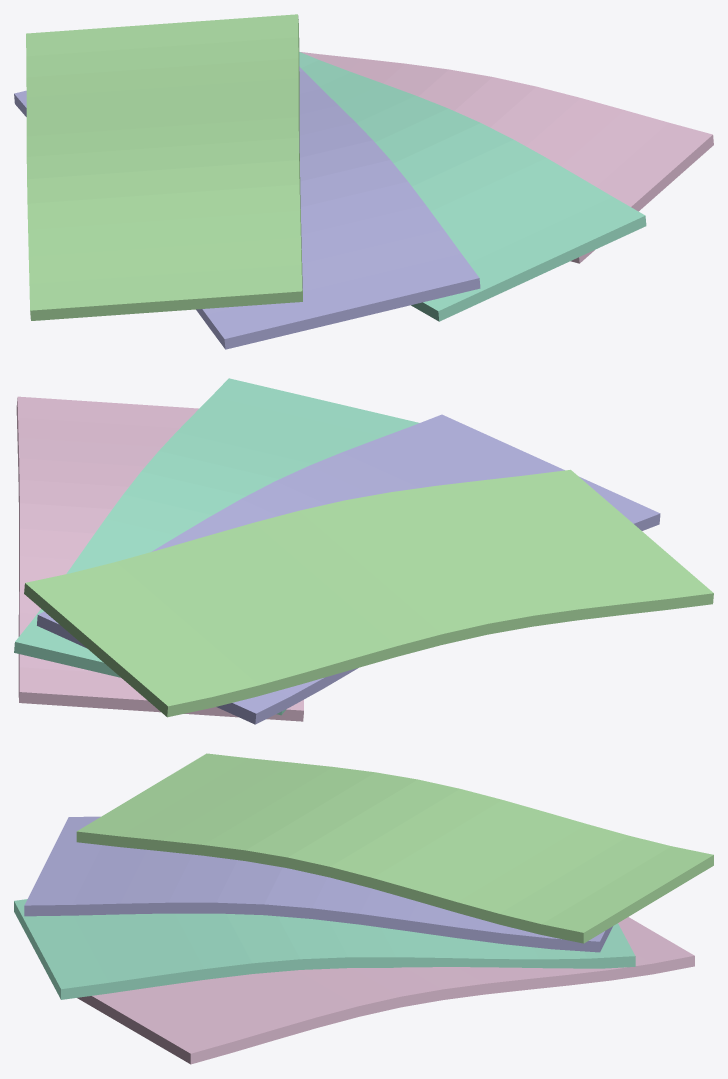
The model's file is SK_Money.fbx.
3 renders of one model, top to bottom at view 1: azimuth 30°, elevation 25°; view 2: azimuth 150°, elevation 25°; view 3: azimuth 270°, elevation 25°, orthographic. The views are drawn at different scales.
Parts seen in each view (by area): view 1: Mesh_Money.001, Mesh_Money.003, Mesh_Money.002, Mesh_Money; view 2: Mesh_Money.001, Mesh_Money.003, Mesh_Money, Mesh_Money.002; view 3: Mesh_Money.001, Mesh_Money.003, Mesh_Money, Mesh_Money.002.
Boxes of the visible parts, x1,y1,x2,y2 form: Mesh_Money.001: [26, 14, 302, 320]; Mesh_Money.003: [299, 52, 646, 321]; Mesh_Money.002: [14, 66, 480, 349]; Mesh_Money: [300, 52, 713, 263]; Mesh_Money.001: [24, 469, 713, 717]; Mesh_Money.003: [14, 378, 418, 715]; Mesh_Money: [16, 396, 303, 721]; Mesh_Money.002: [37, 414, 660, 724]; Mesh_Money.001: [76, 753, 713, 943]; Mesh_Money.003: [14, 899, 635, 999]; Mesh_Money: [77, 917, 694, 1064]; Mesh_Money.002: [24, 816, 612, 952].
Bounding box in the file's own units: 182 × 21.43 × 169.
